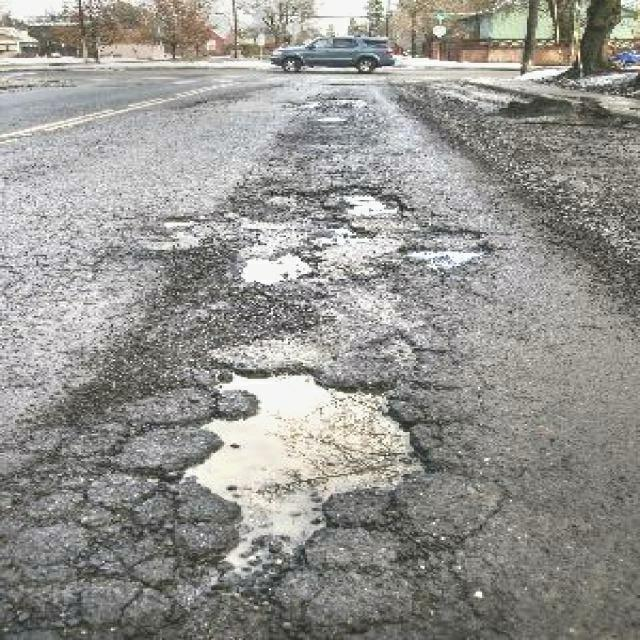Pothole: (166, 358, 442, 584), (399, 226, 495, 269), (322, 181, 410, 218), (237, 250, 320, 289), (314, 216, 382, 243), (160, 213, 198, 229)
